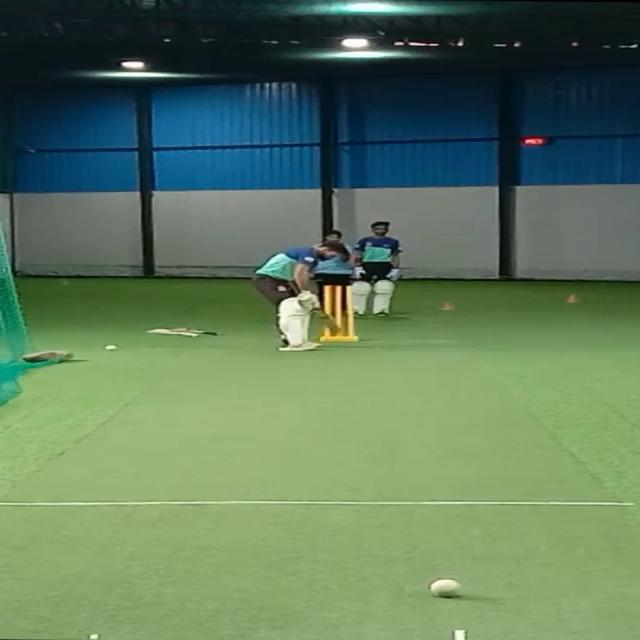ball: (422, 575, 467, 600)
stump: (318, 282, 362, 346)
